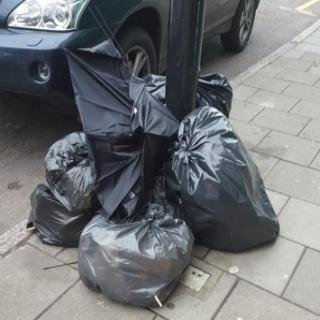Garbage: (165, 110, 284, 251), (75, 196, 196, 311), (45, 131, 101, 207)
